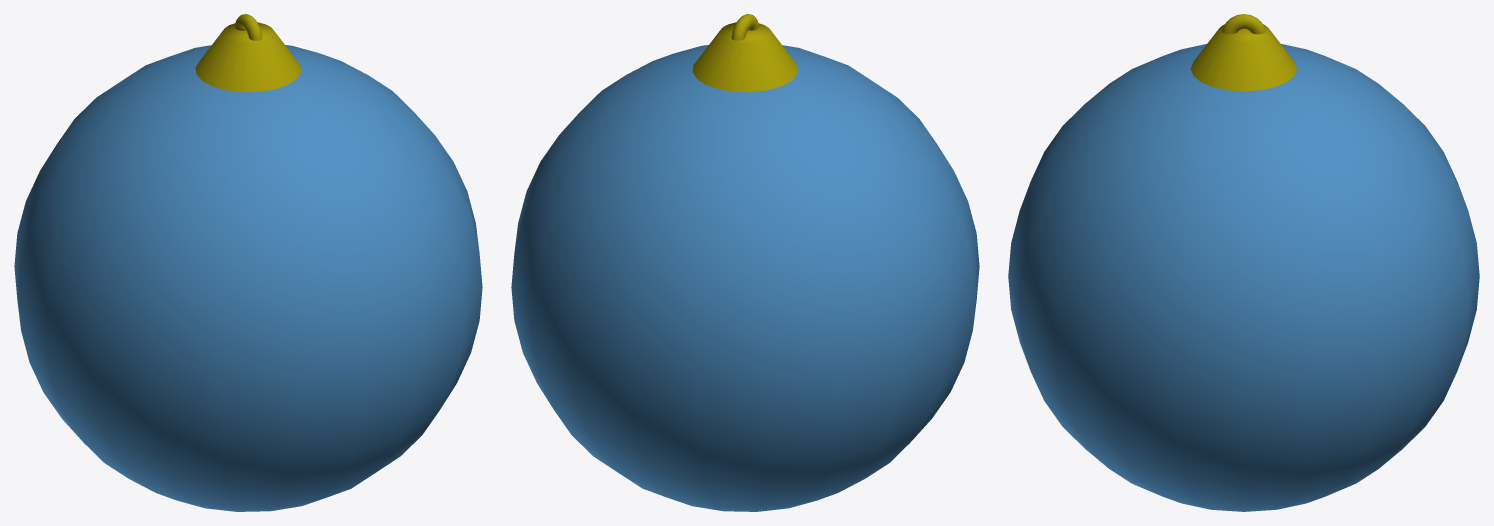
The model's file is Ornament_ball(Blue).fbx.
3 views of the same model, side by side, from view 1: azimuth 30°, elevation 25°; view 2: azimuth 150°, elevation 25°; view 3: azimuth 270°, elevation 25° (orthographic).
Parts seen in each view (by area): view 1: pSphere1, pCone1; view 2: pSphere1, pCone1; view 3: pSphere1, pCone1, pTorus1.
Boxes of the visible parts, left/top/right/bottom form: pSphere1: left=14, top=45, right=482, bottom=511; pCone1: left=195, top=22, right=301, bottom=92; pSphere1: left=511, top=45, right=979, bottom=511; pCone1: left=692, top=22, right=798, bottom=92; pSphere1: left=1008, top=44, right=1479, bottom=511; pCone1: left=1191, top=24, right=1296, bottom=91; pTorus1: left=1222, top=14, right=1265, bottom=34.
Size of the model in its own units: 2 by 2.23 by 2.
